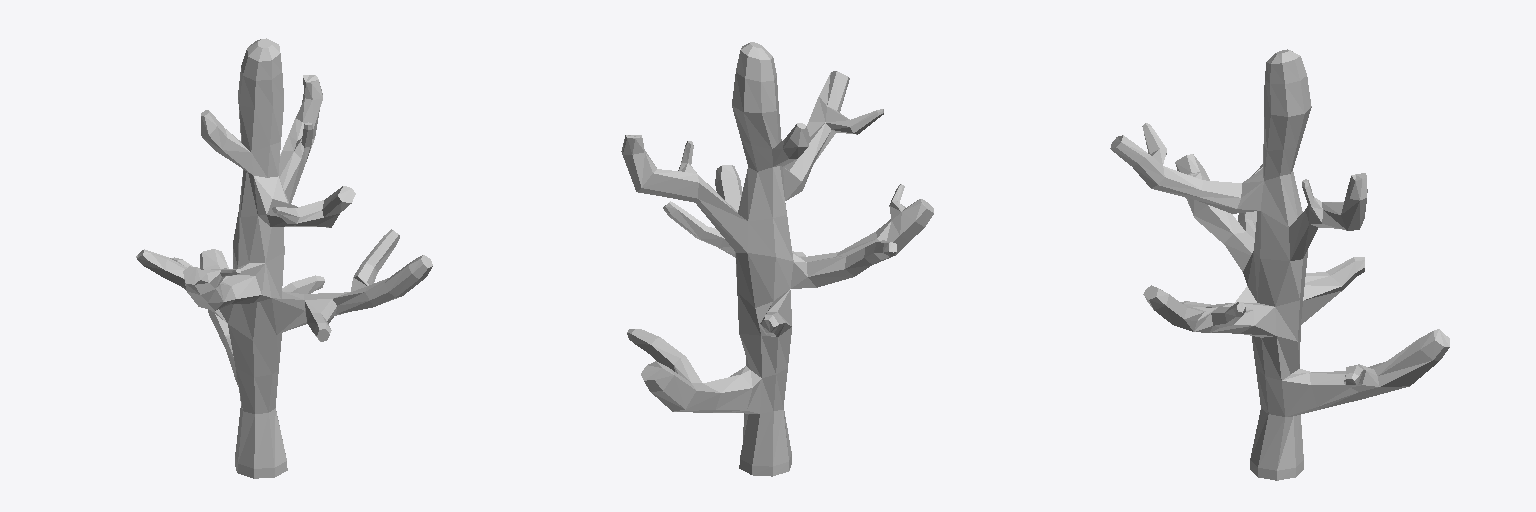
Rendered from Coral_A_02_LOD2.obj.
The picture shows the model from 3 angles: view 1: azimuth 30°, elevation 25°; view 2: azimuth 150°, elevation 25°; view 3: azimuth 270°, elevation 25°; orthographic projection.
Visible parts, largest first — view 1: Coral_A_02_LOD2_Cylinder.419; view 2: Coral_A_02_LOD2_Cylinder.419; view 3: Coral_A_02_LOD2_Cylinder.419.
Part boxes in pixels (x1,y1,x2,y2): Coral_A_02_LOD2_Cylinder.419: (136,38,432,478); Coral_A_02_LOD2_Cylinder.419: (621,42,933,476); Coral_A_02_LOD2_Cylinder.419: (1110,49,1449,480).
Bounding box in the file's own units: 6.02 × 9.81 × 7.15.